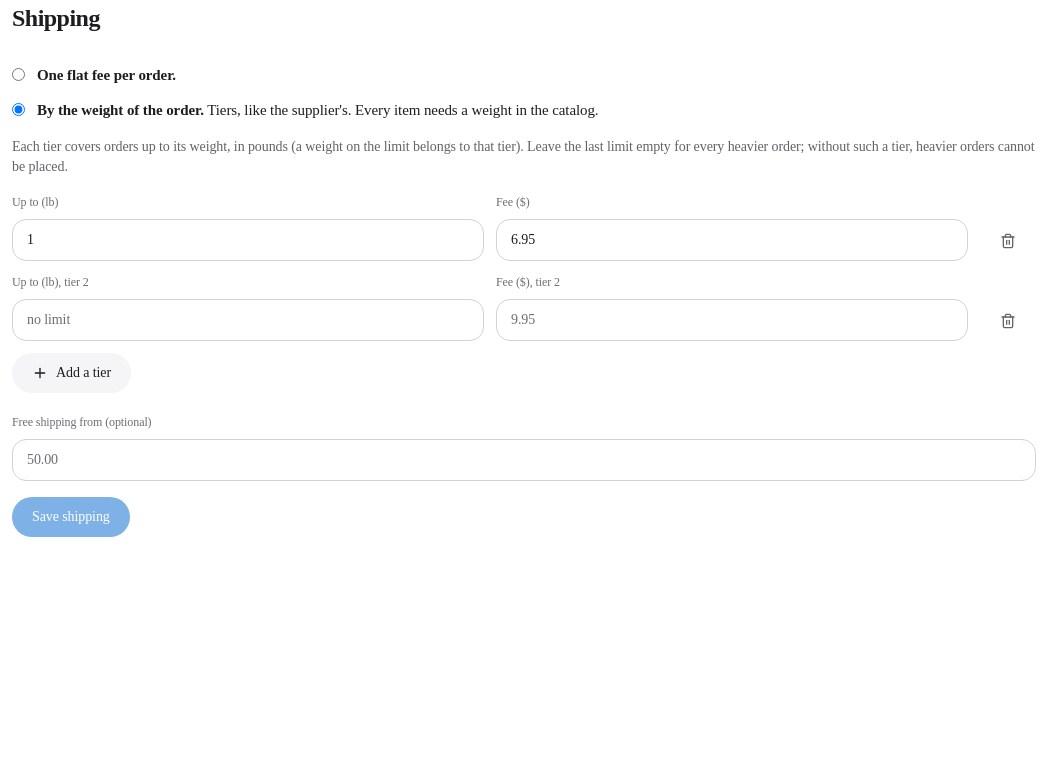
Test: shipping rule (staff) › cannot be saved while a tier has no fee, and a tier can be removed
The width and height of the screenshot is (1048, 768).
Check: the button "Save shipping" is disabled, box x1=12 y1=497 x2=130 y2=537
Click the button named "Remove tier 2": [1008, 321] box x1=980 y1=301 x2=1036 y2=341
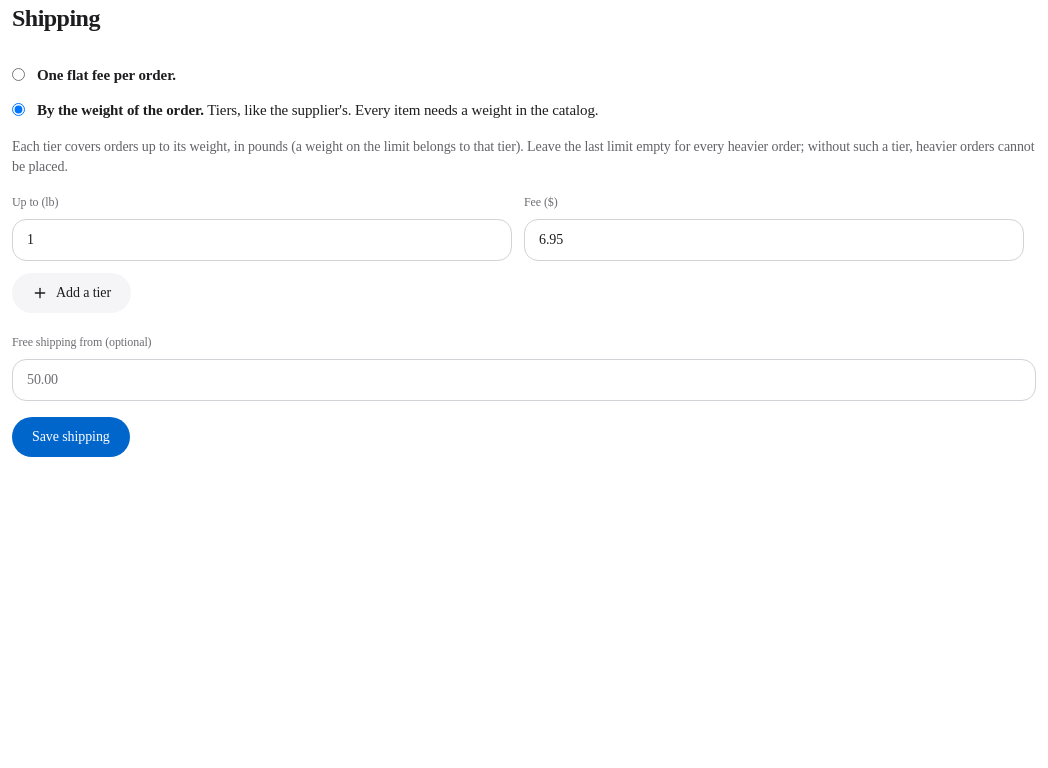
Check: the button "Save shipping" is enabled, box x1=12 y1=417 x2=130 y2=457
